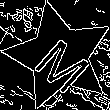M_NE: (25, 22, 94, 91)
